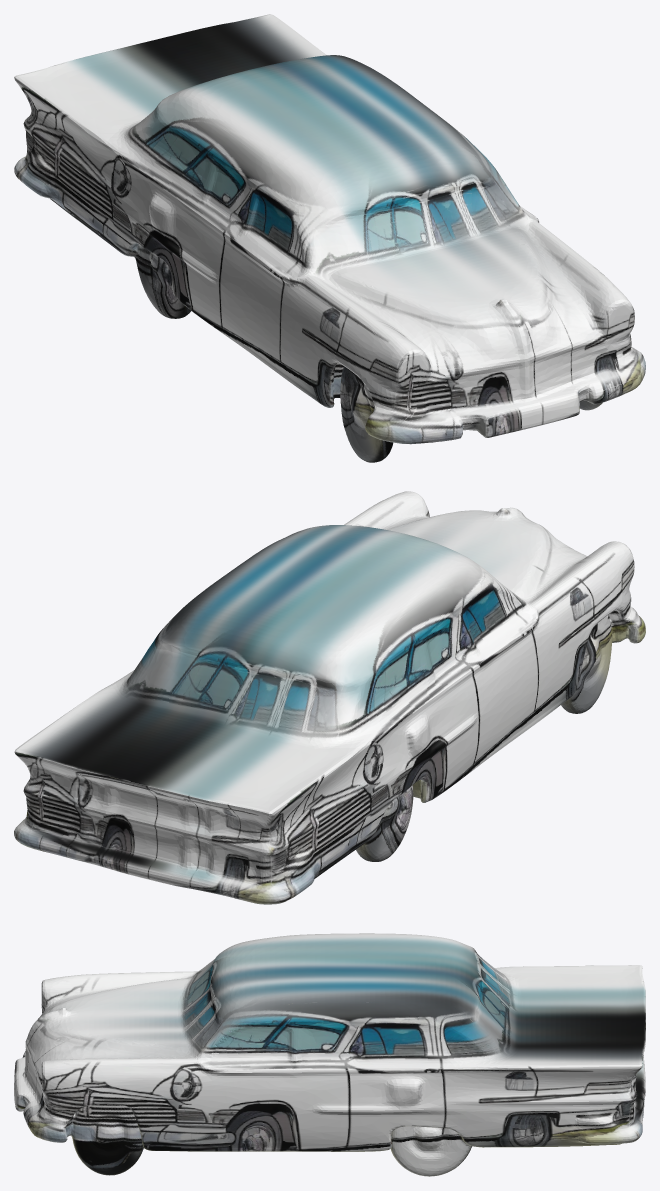
Rendered from car_parked.glb.
3 views of the same model, one above another, from view 1: azimuth 30°, elevation 25°; view 2: azimuth 150°, elevation 25°; view 3: azimuth 270°, elevation 25° (orthographic). The views are drawn at different scales.
Parts seen in each view (by area): view 1: car_parked; view 2: car_parked; view 3: car_parked.
Boxes of the visible parts, x1,y1,x2,y2 form: car_parked: [14, 14, 645, 462]; car_parked: [14, 491, 645, 904]; car_parked: [14, 933, 645, 1176].
Size of the model in its own units: 2.51 by 1.86 by 6.18.
Materials: 1 (1 with a texture image).
